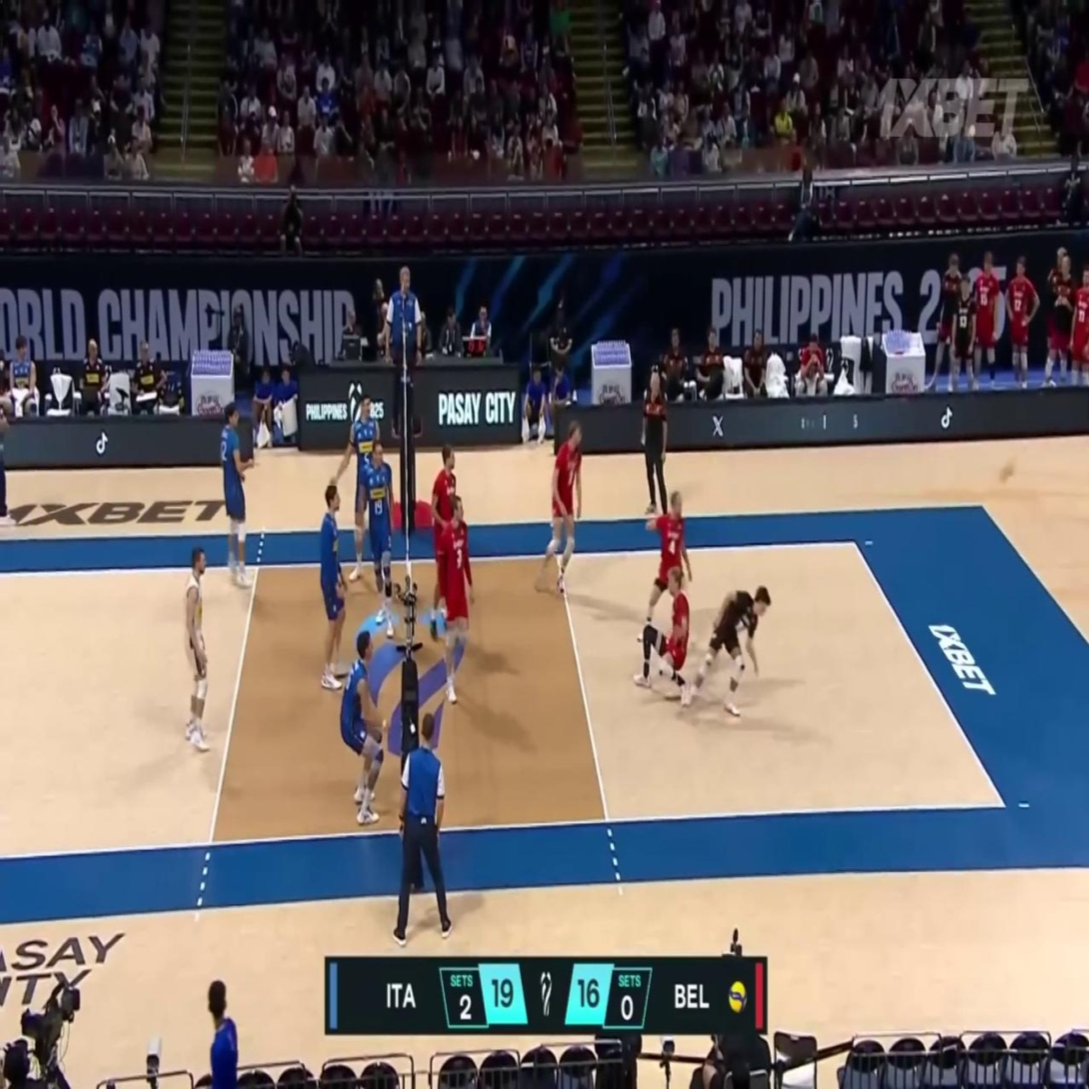ball: (999, 456, 1016, 483)
